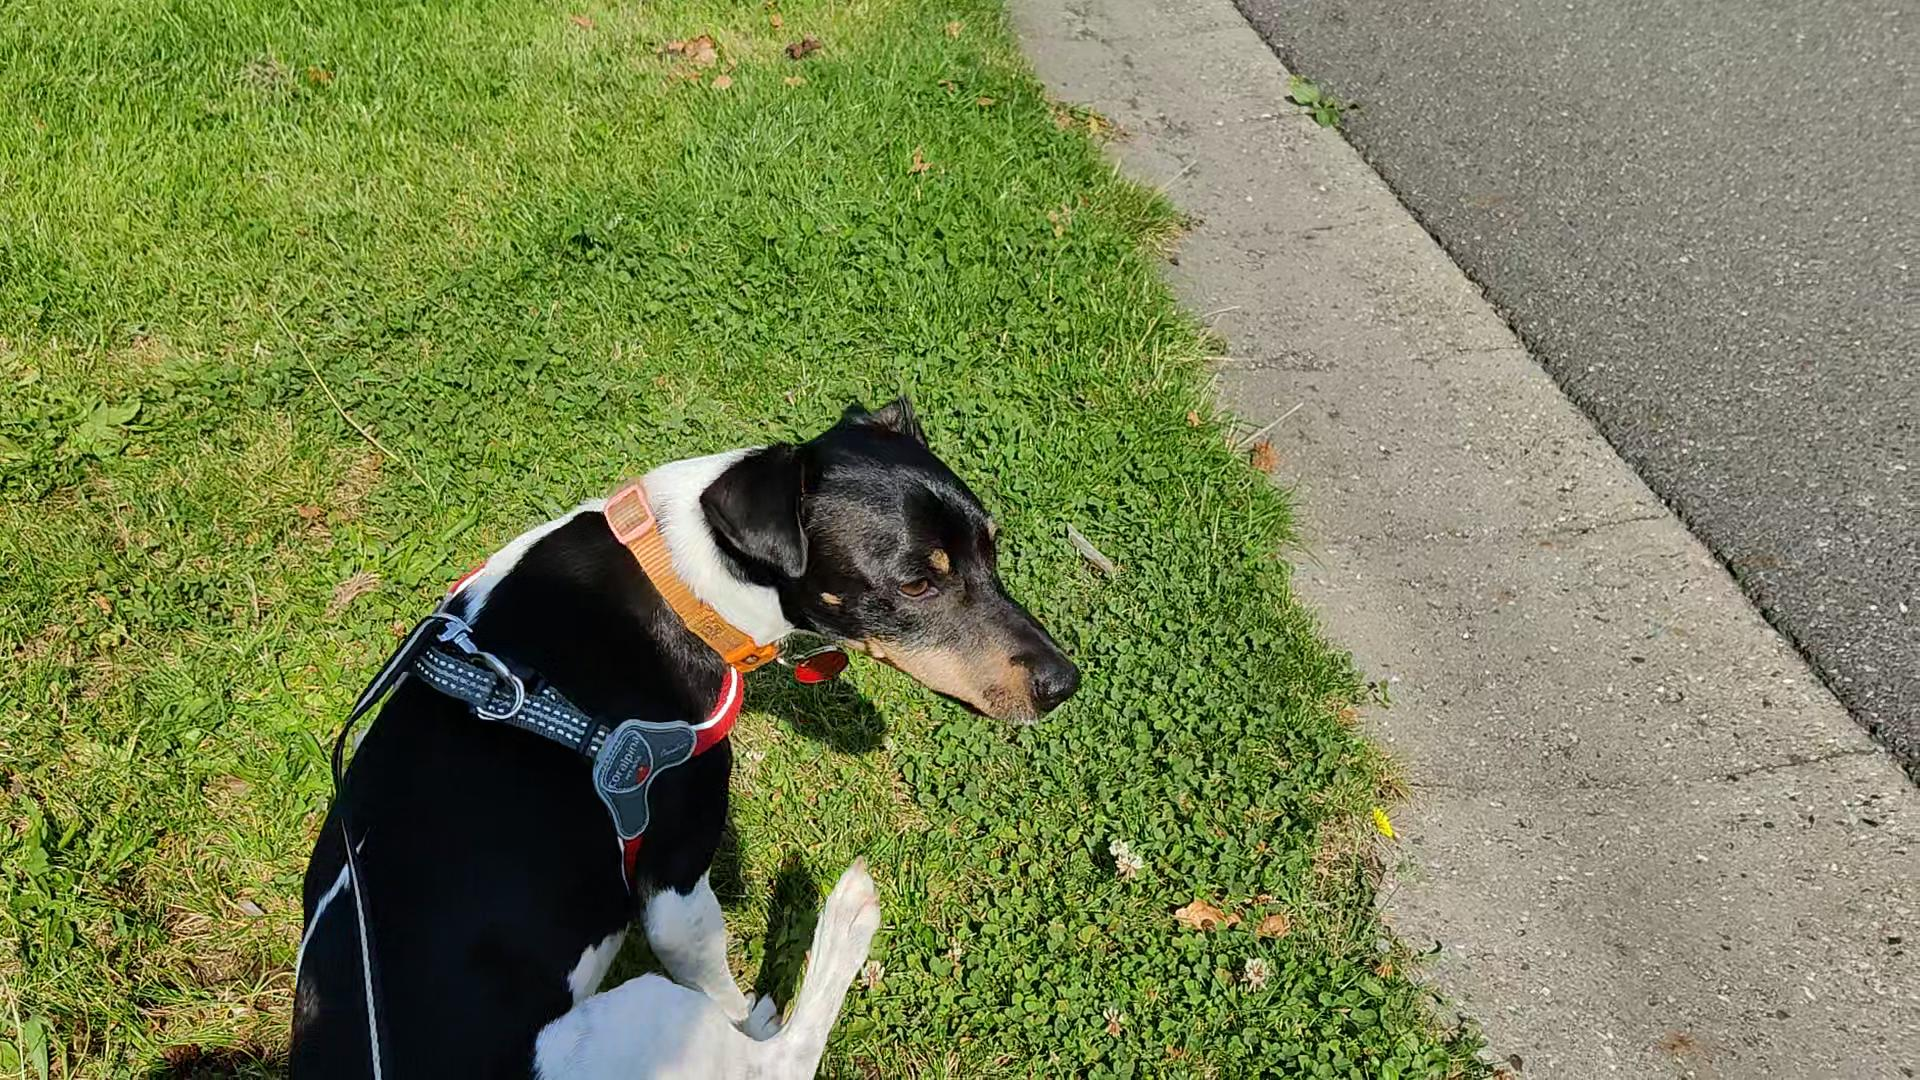Dog: (243, 372, 1102, 1079)
